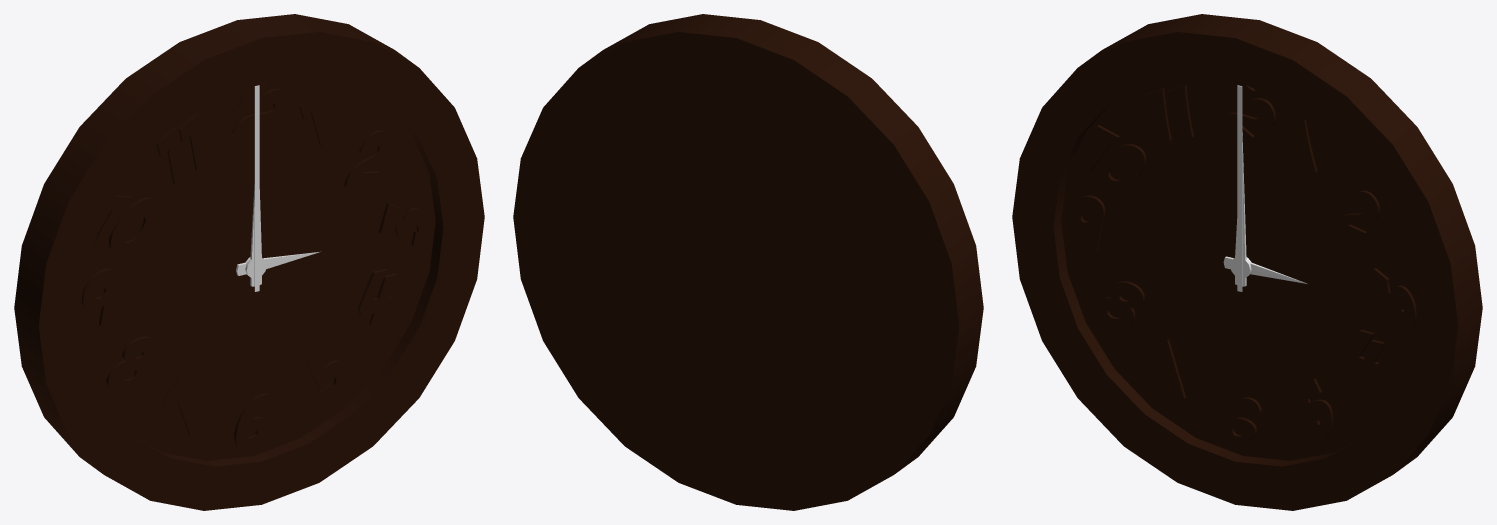
The model's file is SM_Clock.FBX.
3 views of the same model, side by side, from view 1: azimuth 30°, elevation 25°; view 2: azimuth 150°, elevation 25°; view 3: azimuth 330°, elevation 25° (orthographic).
Visible parts, largest first — view 1: Clock, SecondsHand, MinutesHand; view 2: Clock; view 3: Clock, SecondsHand, MinutesHand.
Part boxes in pixels (box(x1,y1,x2,y2)): Clock: box(14, 14, 484, 510); SecondsHand: box(254, 85, 259, 291); MinutesHand: box(245, 184, 266, 286); Clock: box(513, 14, 983, 510); Clock: box(1012, 14, 1482, 510); SecondsHand: box(1237, 85, 1242, 291); MinutesHand: box(1230, 132, 1251, 286).
Size of the model in its own units: 90 by 90 by 8.56.
